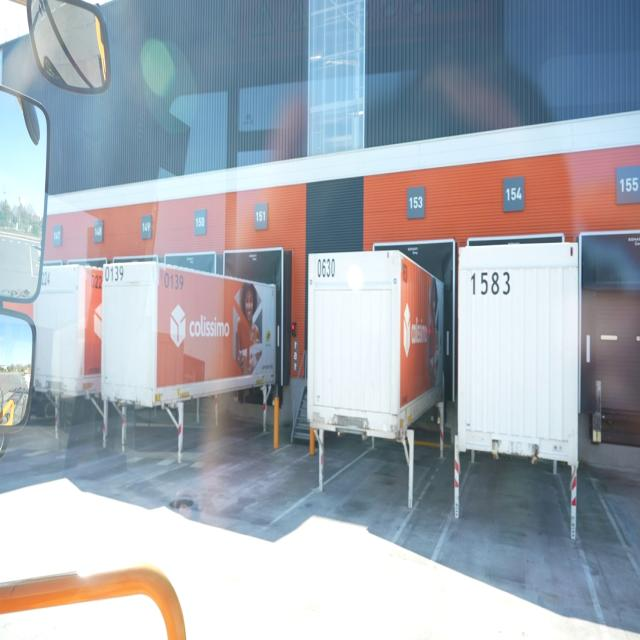Code: (467, 267, 515, 299), (102, 260, 126, 286), (316, 255, 338, 283), (161, 268, 186, 292)
